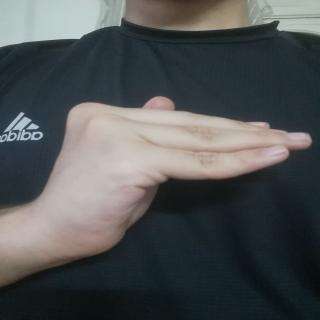KHAA: (34, 81, 316, 248)
